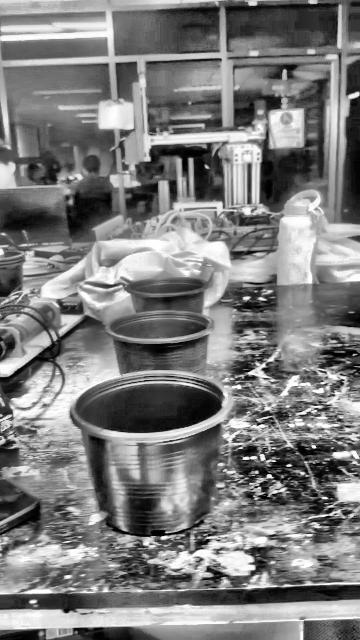pot: (69, 374, 228, 537), (106, 310, 214, 374), (128, 277, 207, 313), (0, 254, 26, 297)
